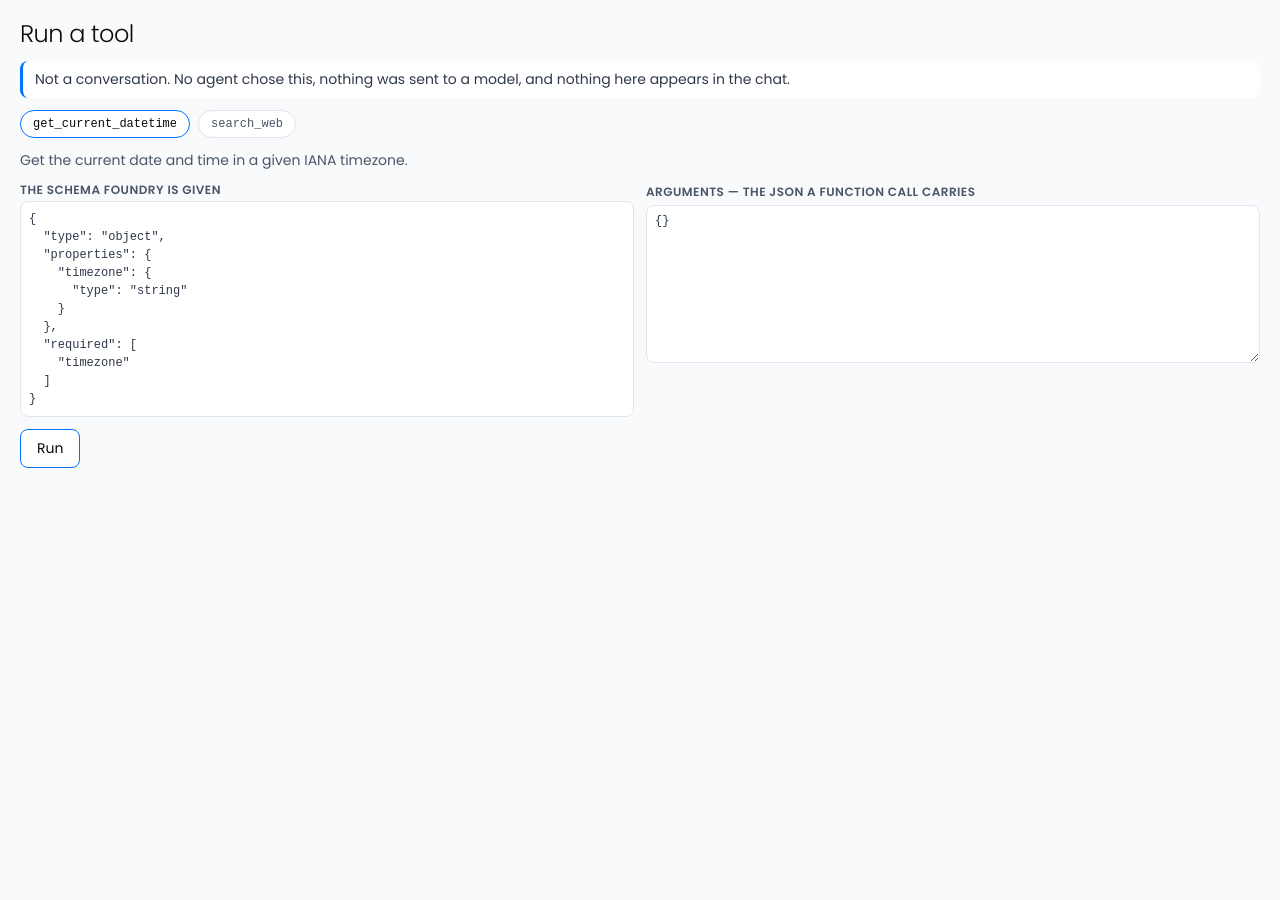
Scenario: a failure is the failure it was (AC5) › renders search_unavailable verbatim, not as an error box
This screenshot has width=1280, height=900.
Click the button "Run" at (50, 449), box [20,429,80,468]
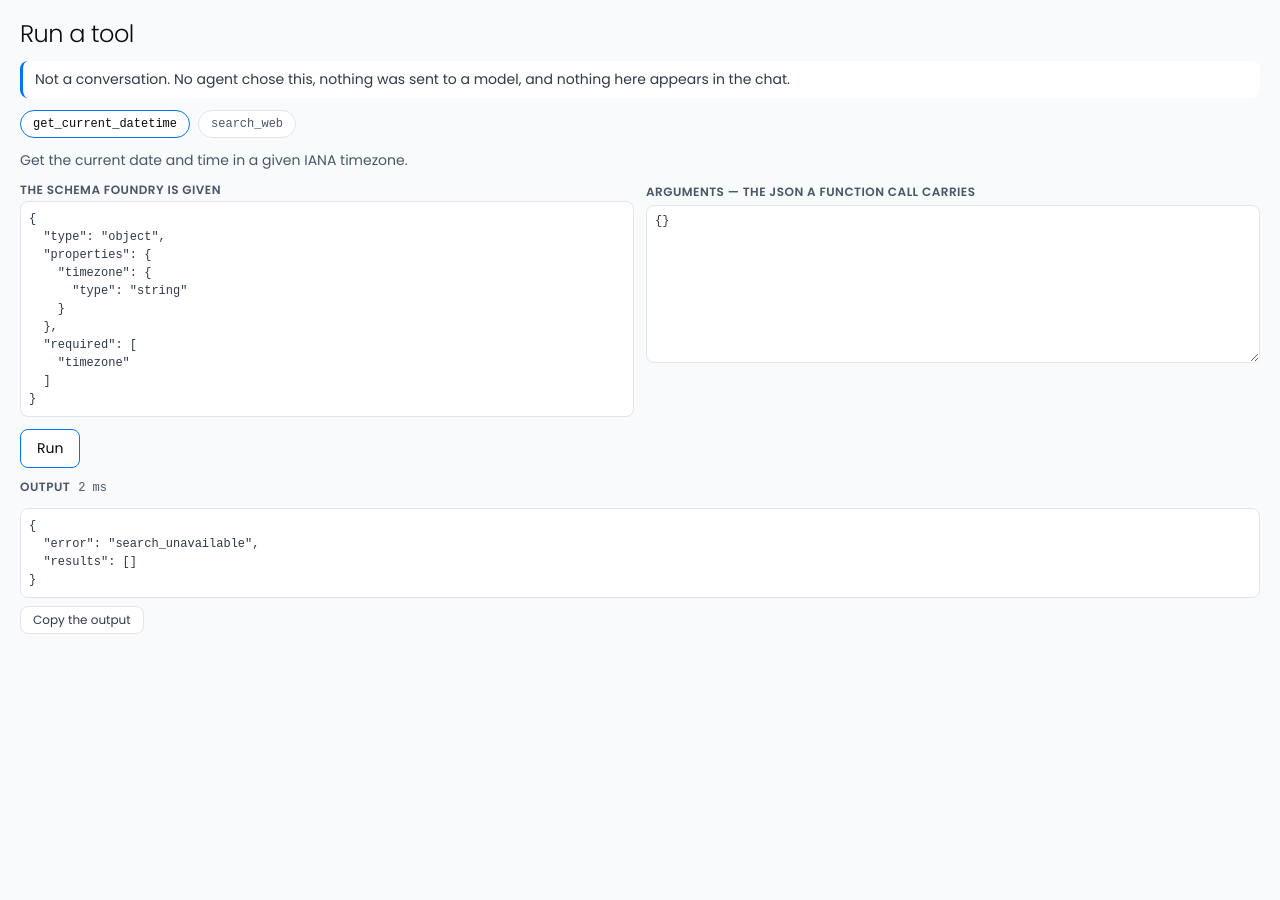
Now the text with test id "tool-output" shows "search_unavailable", box [29,519,260,587]
